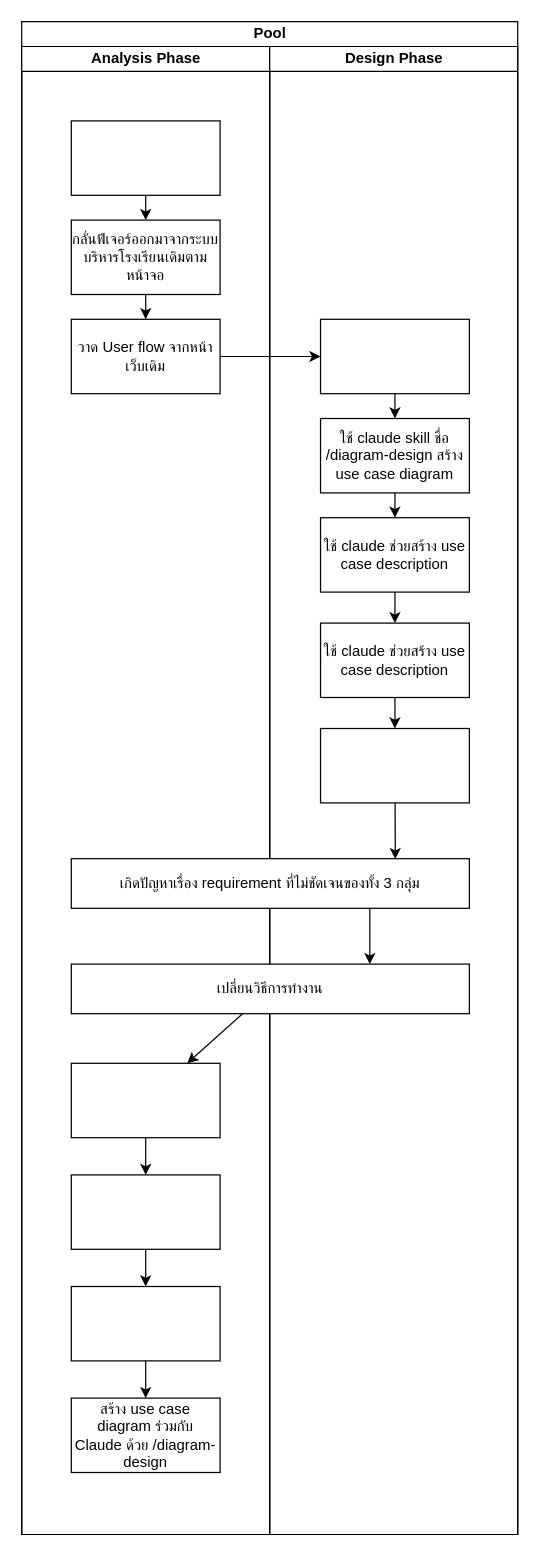
Some shapes in this 539 by 1556 pixel diagram are drawn without their labels. Each missing label, with the centre of its shape:
สร้าง functional requirement ใหม่: (x=145, y=1211)
สร้าง non-functional requirement ใหม่: (x=145, y=1323)
ออกแบบ UX/UI: (x=394, y=356)
แบ่ง feature ตามระบบเก่าของแต่ละกลุ่ม: (x=145, y=157)
ใช้ Claude skill /grill-with-docs: (x=145, y=1100)
ใช้ claude ช่วยสร้าง database: (x=394, y=765)
